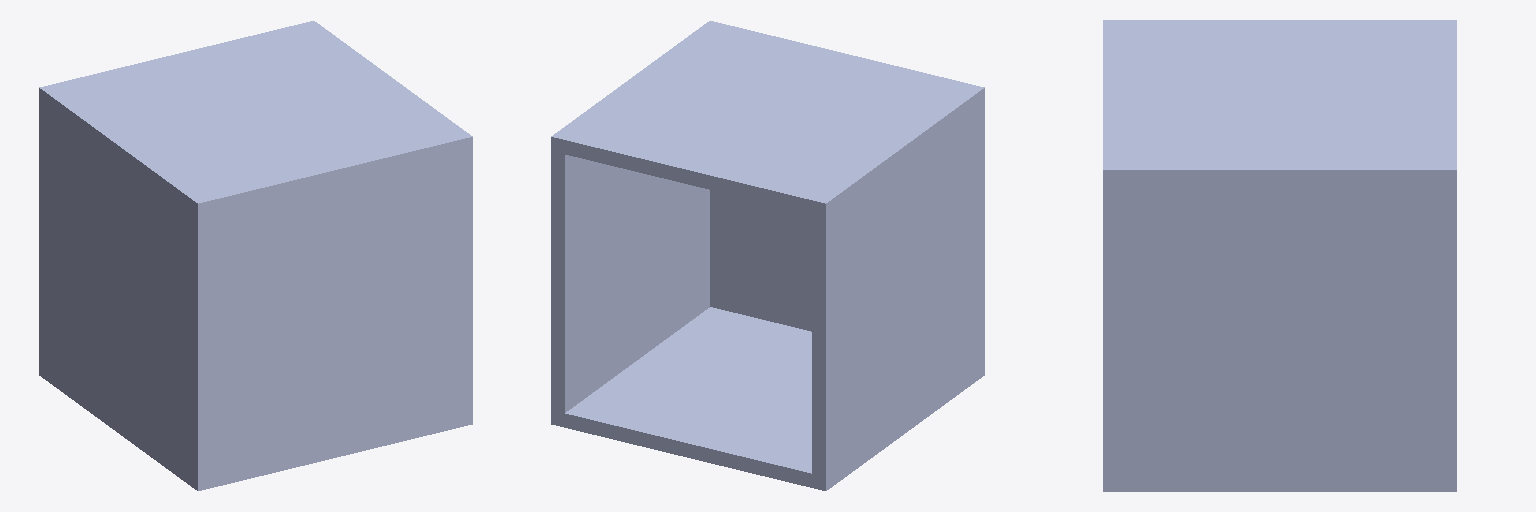
The robot description file, URDF, robot "rbe595_box":
<!--URDF generated by ONSHAPE BY PTC INC, 1.223-->
<robot name="rbe595_box">
    <link name="root">
        <inertial>
            <mass value="0.000911448" />
            <origin xyz="-1.11519e-17 0.0578898 1.8646e-17" rpy="0 -0 0" />
            <inertia ixx="4.89558e-06" ixy="0" ixz="0" iyy="5.46114e-06" iyz="0" izz="4.89558e-06" />
        </inertial>
        <visual>
            <origin xyz="0 0 0" rpy="0 -0 0" />
            <geometry>
                <mesh filename="package://rbe595_box/meshes/Part_1.stl" scale="1 1 1" />
            </geometry>
            <material name="0.792157_0.819608_0.933333_0.000000_0.000000">
                <color rgba="0.792157 0.819608 0.933333 1" />
            </material>
        </visual>
    </link>
</robot>

--- Facts derived from the render (not from the file) ---
3 views of the same robot in one strip: view 1: azimuth 30°, elevation 25°; view 2: azimuth 150°, elevation 25°; view 3: azimuth 270°, elevation 25° (orthographic).
Model rbe595_box with 1 links and 0 joints (none), rooted at root, posed all joints at 0.
Links seen in each view (by area): view 1: root; view 2: root; view 3: root.
Link boxes in pixels (x1,y1,x2,y2): root: (39,21,472,490); root: (551,21,984,490); root: (1103,20,1456,491).
Bounding box of the posed robot: 0.1524 × 0.1524 × 0.1524 m (x, y, z).
Meshes: 1 distinct files referenced, 1 mesh visuals loaded (1 binary STL).
